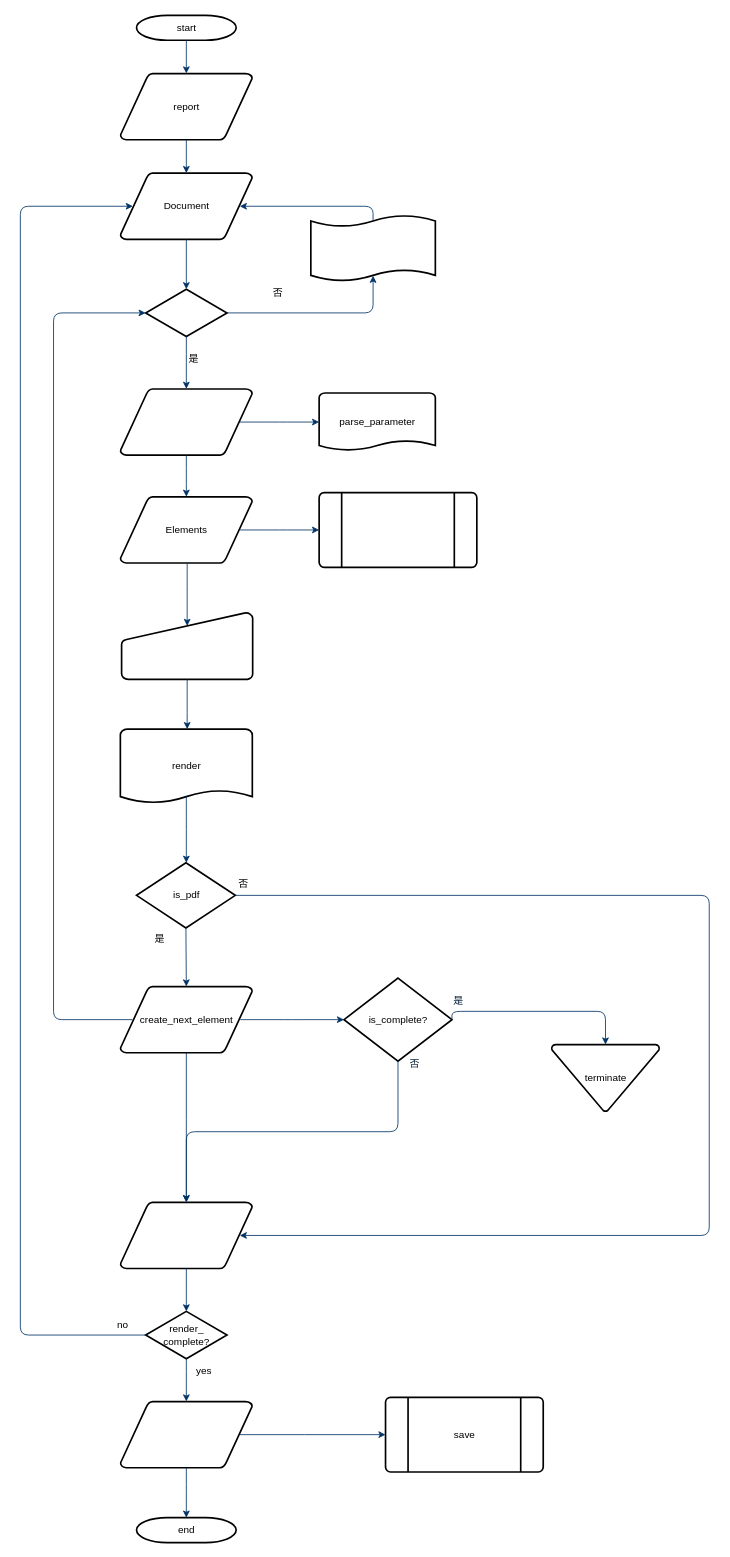
Some shapes in this 730 by 1557 pixel diagram are drawn without their labels. The shapes that lost their labels are listed below. From the top down, each one's centre as x and y in pixels, then its label:
At pixel 373 247: "reset".
At pixel 185 312: "init".
At pixel 186 422: "context".
At pixel 397 529: "material balance".
At pixel 186 646: "prepare".
At pixel 186 1235: "add_fonts".
At pixel 186 1434: "write_file".
